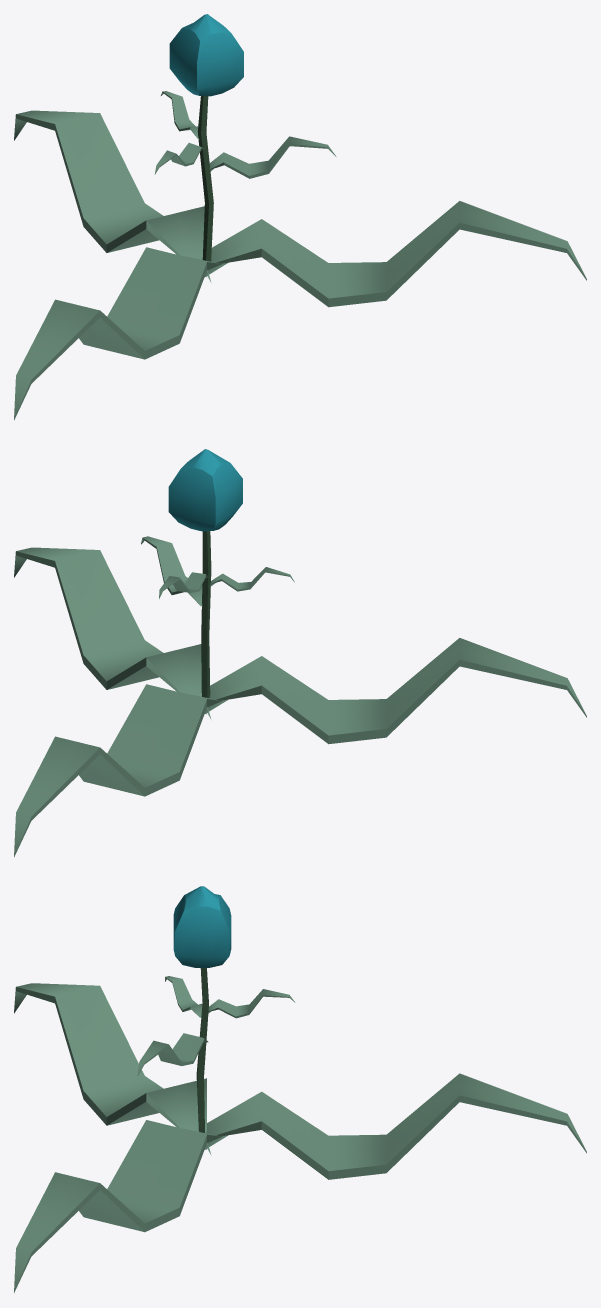
Rendered from Mesh_SpiritPlant_02.fbx.
The picture shows the model from 3 angles, top to bottom: view 1: azimuth 30°, elevation 25°; view 2: azimuth 150°, elevation 25°; view 3: azimuth 270°, elevation 25°; orthographic projection.
Parts seen in each view (by area): view 1: Spirit_middle_plant_merged; view 2: Spirit_middle_plant_merged; view 3: Spirit_middle_plant_merged.
Part boxes in pixels (left/top/right/bottom): Spirit_middle_plant_merged: left=14, top=14, right=586, bottom=420; Spirit_middle_plant_merged: left=14, top=449, right=586, bottom=857; Spirit_middle_plant_merged: left=14, top=886, right=586, bottom=1292.
Size of the model in its own units: 43.91 by 20.15 by 38.02.
